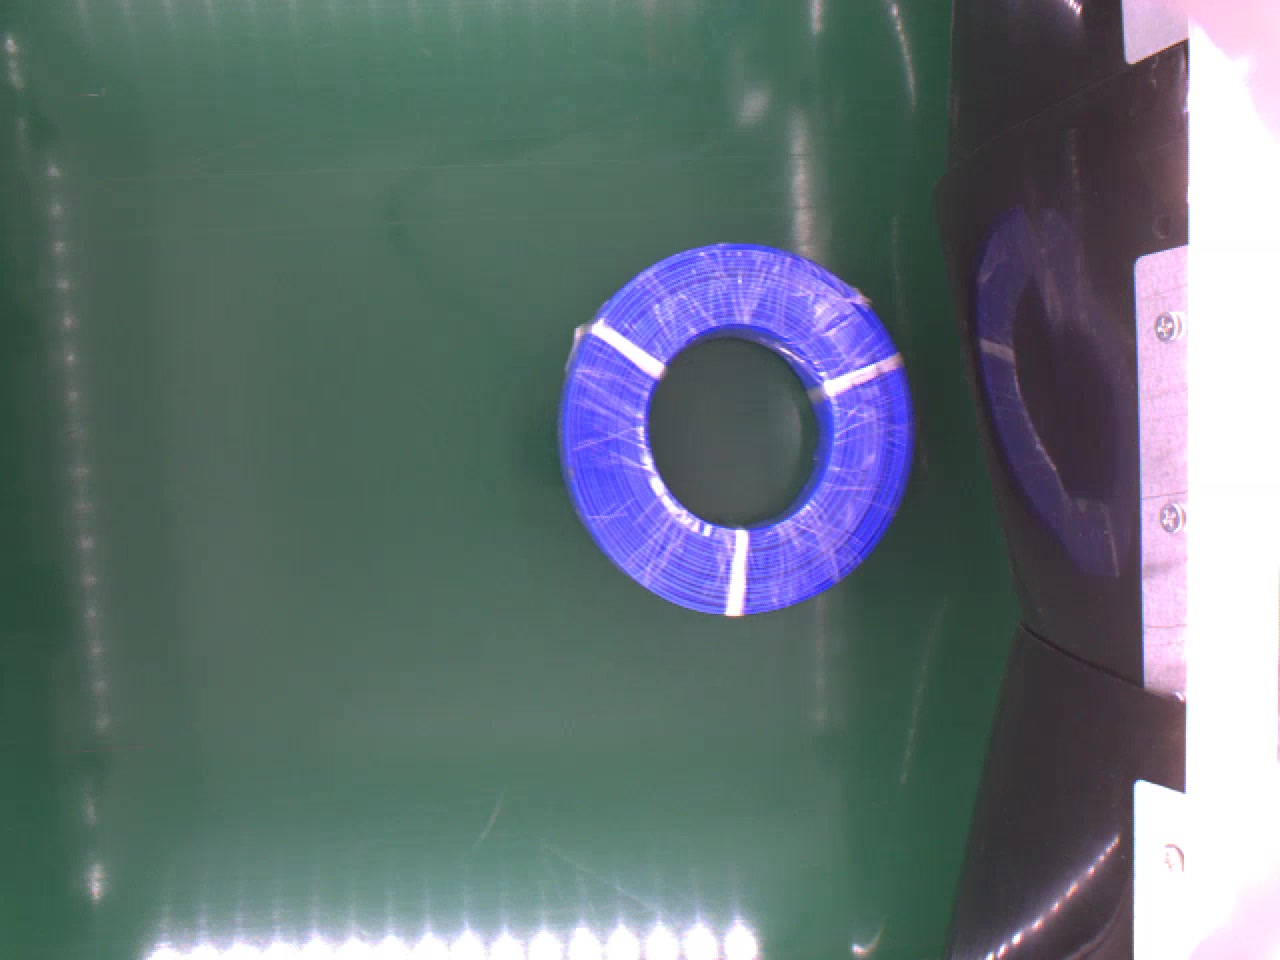blue: (556, 239, 916, 618)
